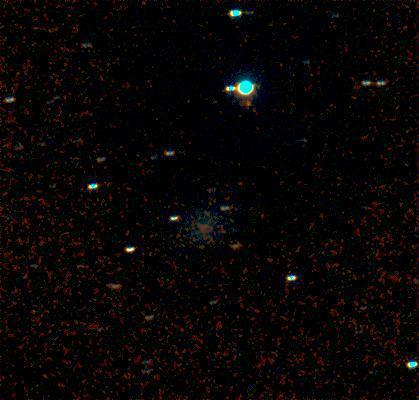star: (232, 89, 262, 119)
